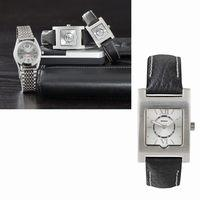watch: (136, 86, 193, 168), (9, 31, 46, 75), (56, 20, 88, 51), (92, 16, 111, 45)
